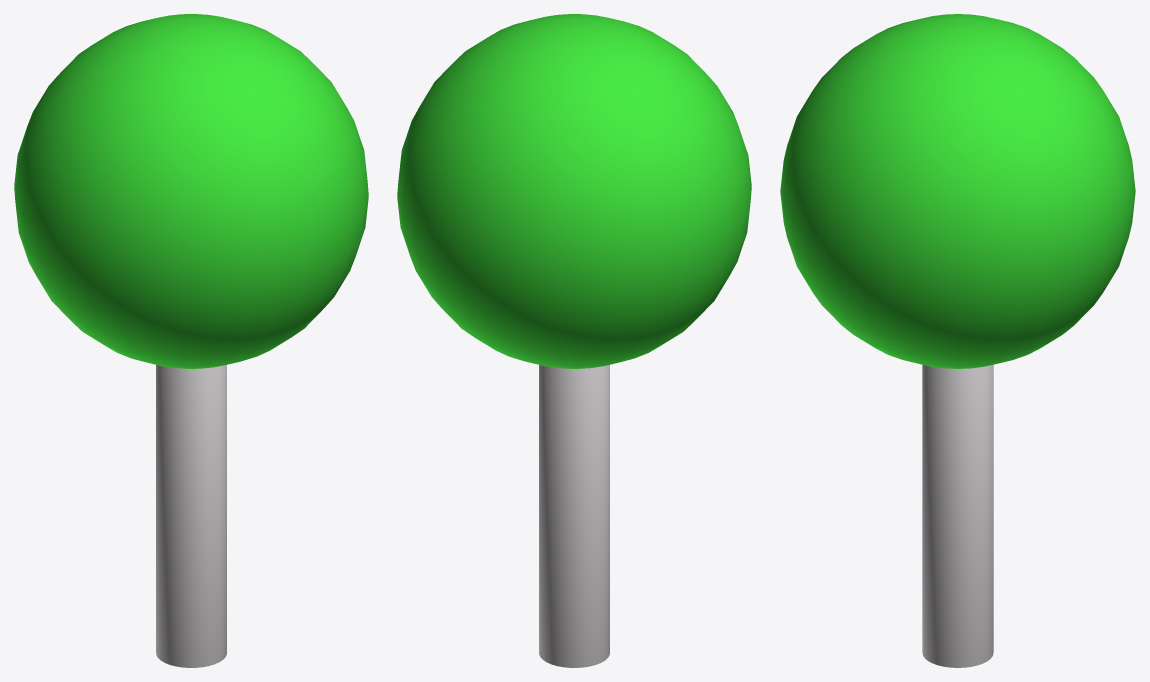
Rendered from mapPinGreen.glb.
The picture shows the model from 3 angles, left to right: view 1: azimuth 30°, elevation 25°; view 2: azimuth 150°, elevation 25°; view 3: azimuth 270°, elevation 25°; orthographic projection.
Parts seen in each view (by area): view 1: Sphere, Cylinder; view 2: Sphere, Cylinder; view 3: Sphere, Cylinder.
Part boxes in pixels (x1=…): Sphere: x1=14, y1=14, x2=368, y2=368; Cylinder: x1=156, y1=365, x2=226, y2=667; Sphere: x1=397, y1=14, x2=751, y2=368; Cylinder: x1=539, y1=365, x2=609, y2=667; Sphere: x1=780, y1=14, x2=1135, y2=368; Cylinder: x1=922, y1=364, x2=993, y2=667.
Bounding box in the file's own units: 2 × 3.87 × 2.
